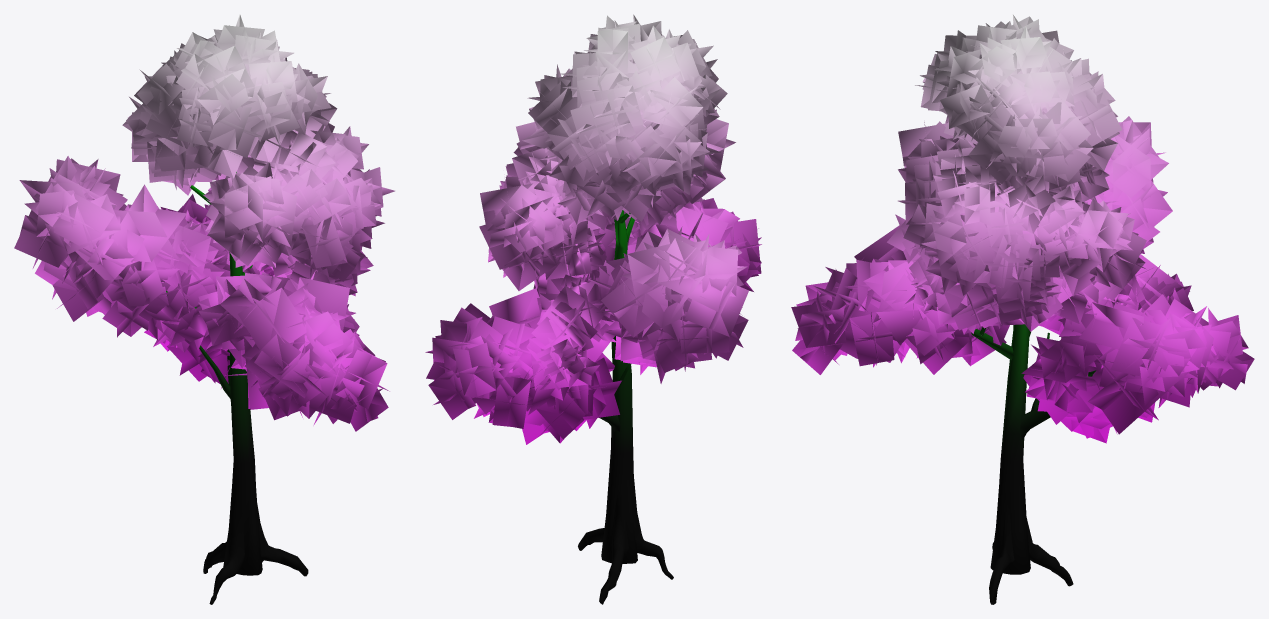
File: TSI_Springleaf_Tree_03A.fbx
3 views of the same model, side by side, from view 1: azimuth 30°, elevation 25°; view 2: azimuth 150°, elevation 25°; view 3: azimuth 270°, elevation 25° (orthographic).
Parts seen in each view (by area): view 1: TSI_Springleaf_Tree_03A_LOD0; view 2: TSI_Springleaf_Tree_03A_LOD0; view 3: TSI_Springleaf_Tree_03A_LOD0.
Boxes of the visible parts, x1,y1,x2,y2 form: TSI_Springleaf_Tree_03A_LOD0: [14, 14, 394, 604]; TSI_Springleaf_Tree_03A_LOD0: [425, 14, 761, 604]; TSI_Springleaf_Tree_03A_LOD0: [791, 14, 1254, 604].
Bounding box in the file's own units: 1012 × 1821 × 1368.
